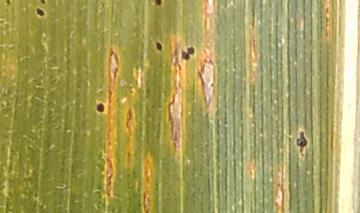tarspot: (294, 129, 309, 158), (178, 50, 191, 65), (30, 7, 49, 17), (94, 100, 107, 114), (152, 40, 165, 52), (184, 44, 197, 56), (149, 1, 164, 8), (37, 1, 49, 5), (3, 1, 14, 5)
